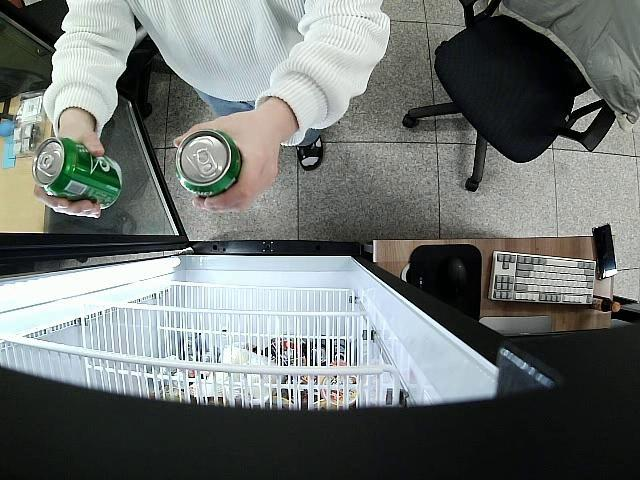12_chilsungCider: (32, 137, 122, 208), (175, 129, 242, 198)
